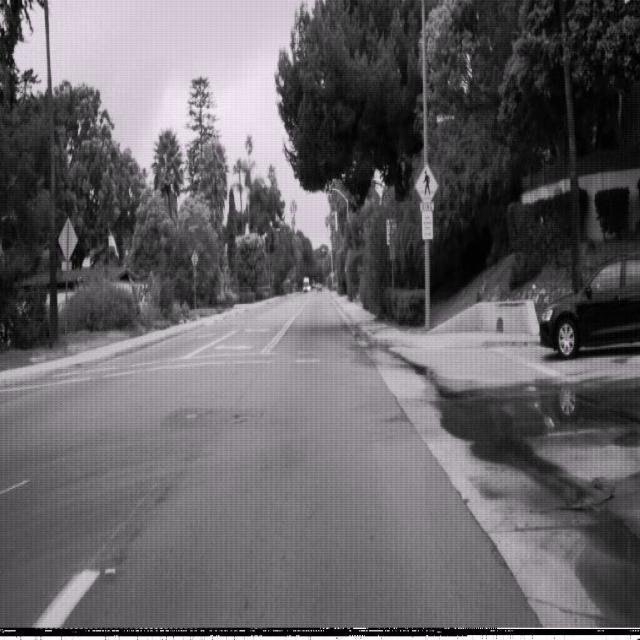pedestrianCrossing: (414, 162, 438, 207)
